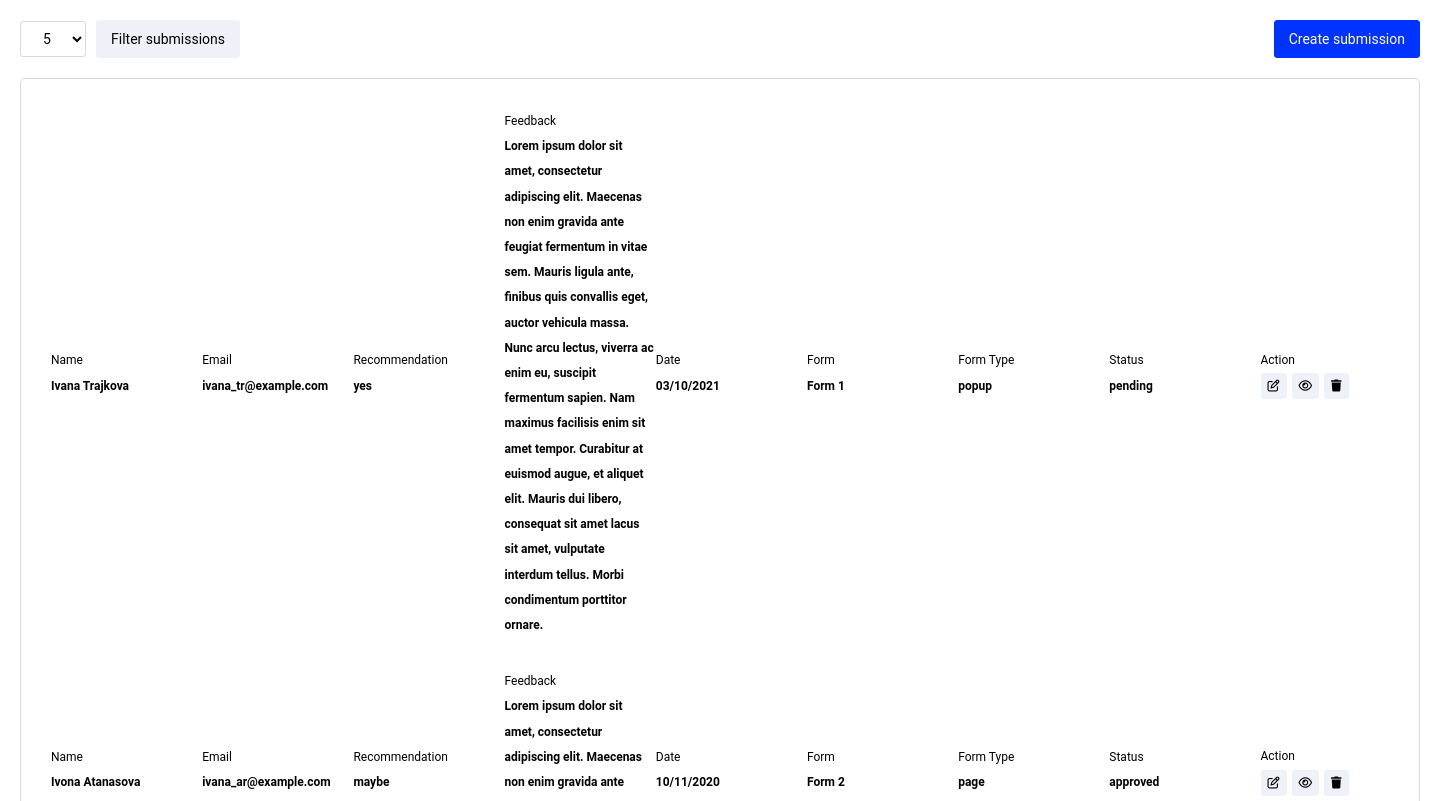
Test case: SubmissionsTable › submission-table-filter recieves correct values as props
The width and height of the screenshot is (1440, 801).
Click the button with test id "open-filters-button".
click(168, 39)  # box [96,20,240,58]
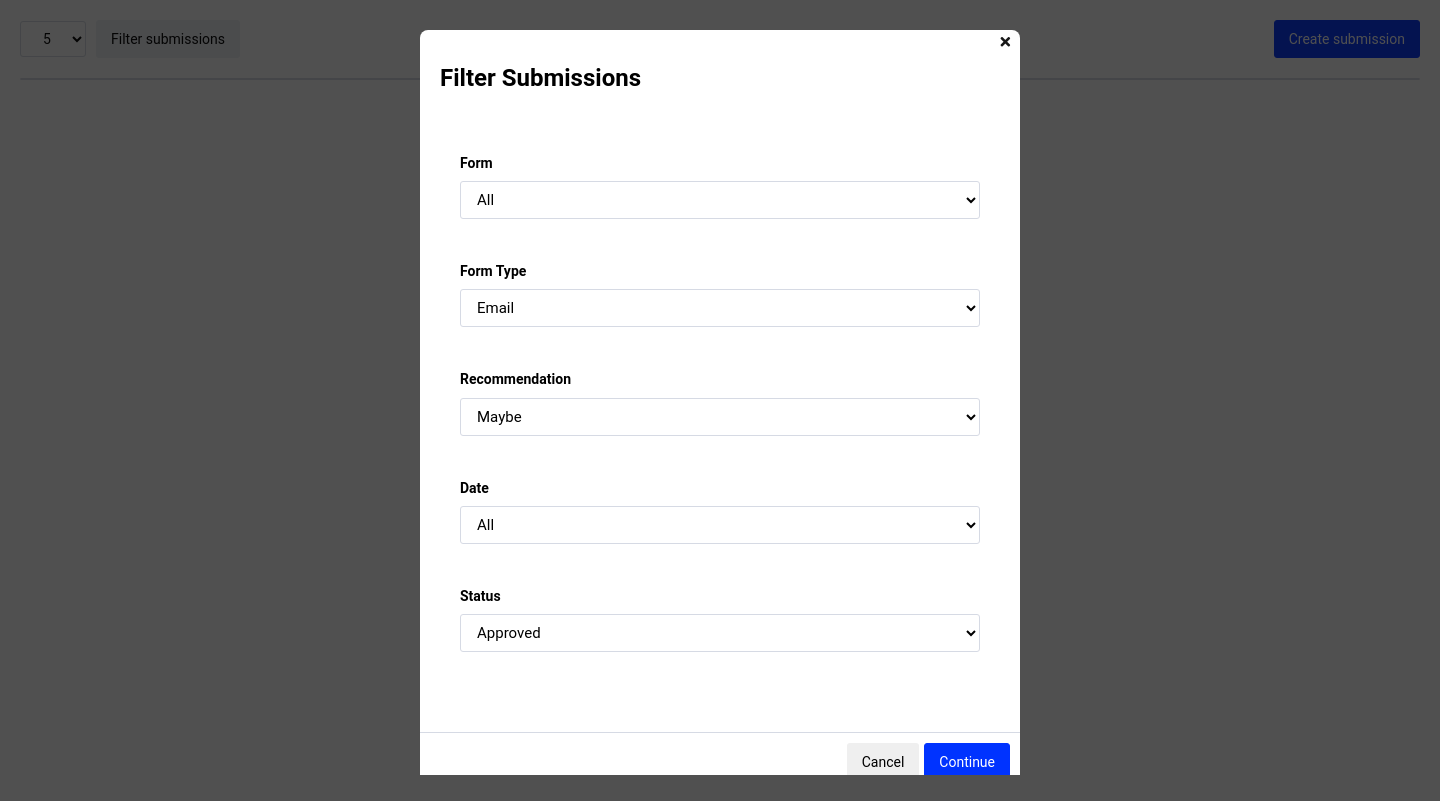
Result: the element showing "Form Form Type Recommendation Date Status" is shown at [440,131,1000,712]
